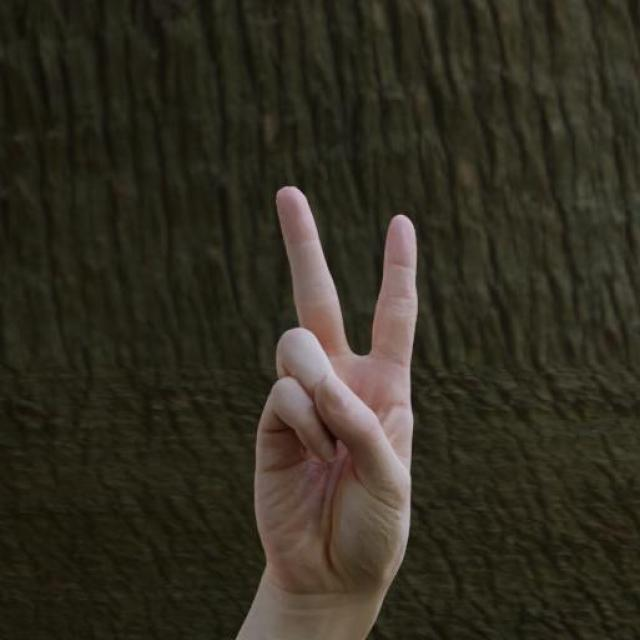V: (242, 181, 427, 627)
